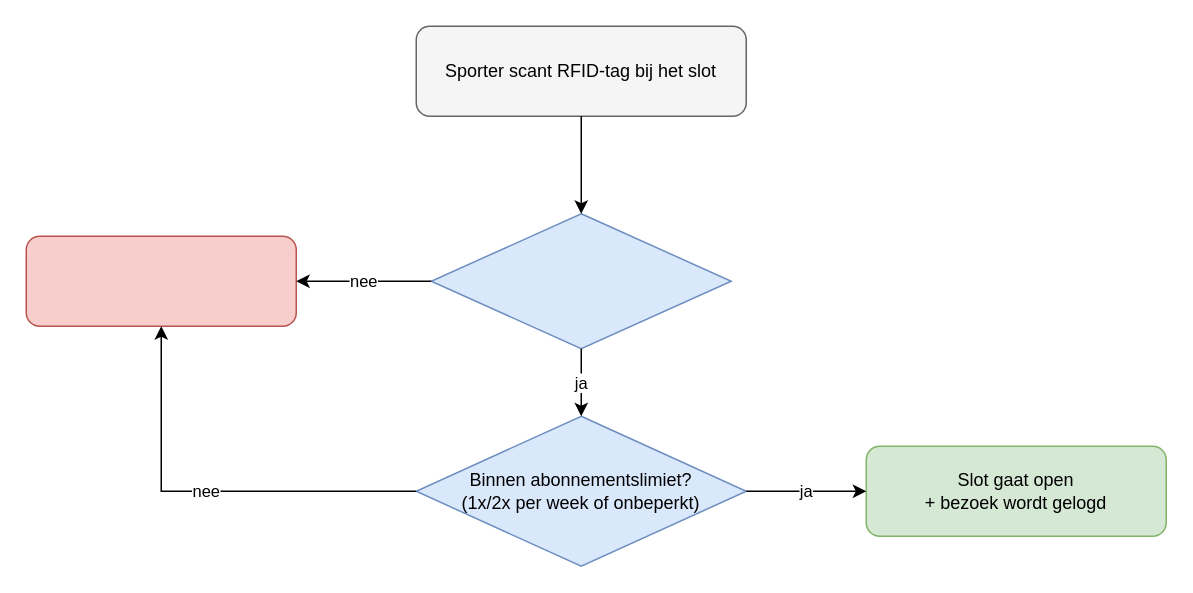
This 1193x593 diagram has some shape labels left out. Each missing label, with the box of its shape:
Tag geldig in database?: (430, 212, 731, 349)
Toegang geweigerd (melding op slot): (25, 235, 296, 326)
